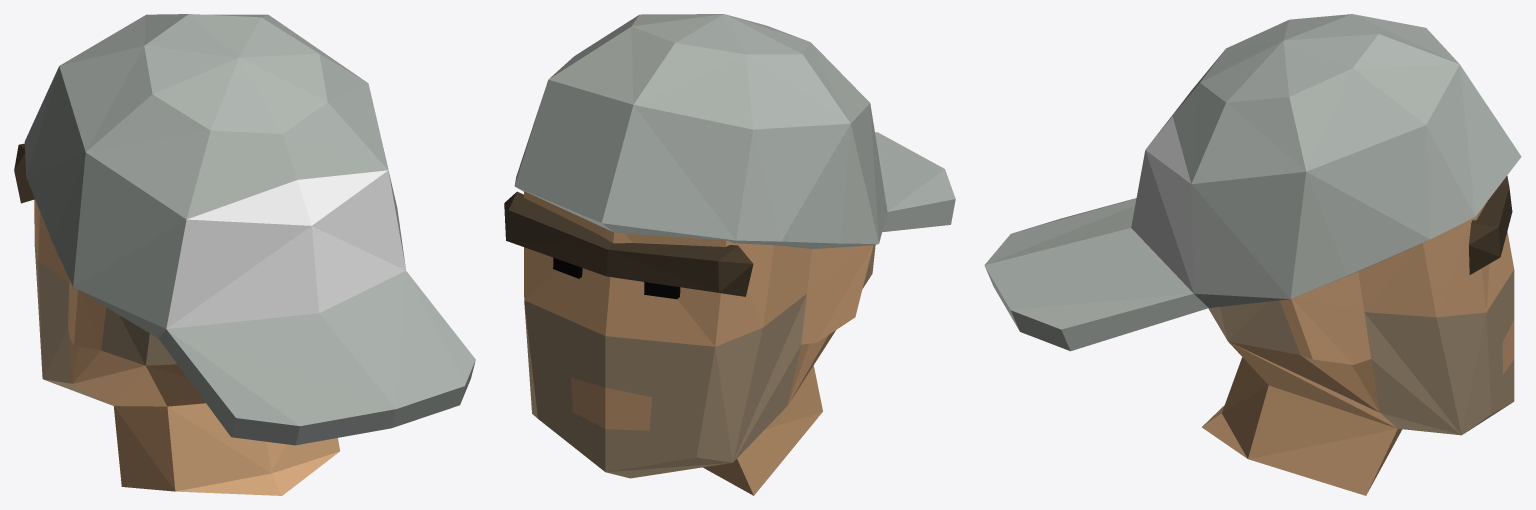
File: Head.obj
3 renders of one model, left to right at view 1: azimuth 30°, elevation 25°; view 2: azimuth 150°, elevation 25°; view 3: azimuth 270°, elevation 25°, orthographic. The views are drawn at different scales.
Size of the model in its own units: 0.2734 by 0.3625 by 0.4127.
1 material, 1 textured.
